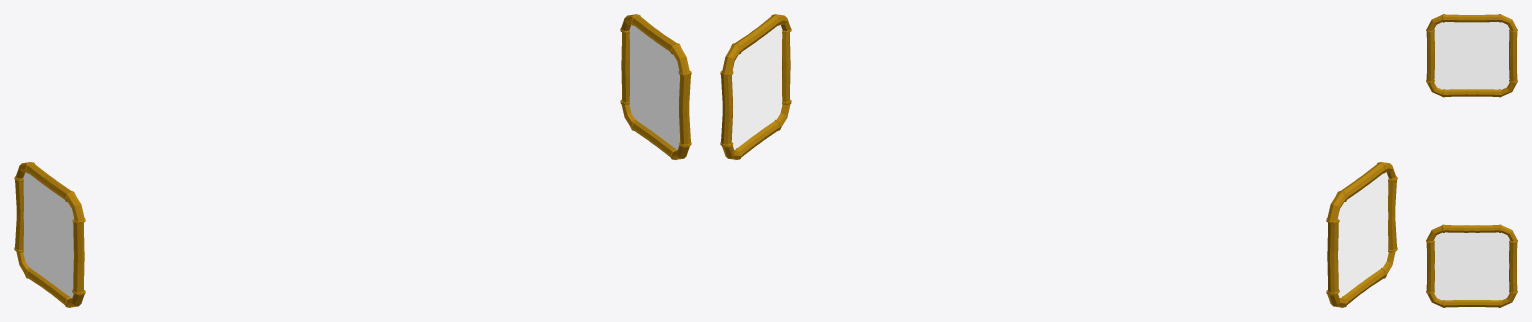
The model's file is obj_frame.gltf.
The picture shows the model from 3 angles, left to right: view 1: azimuth 30°, elevation 25°; view 2: azimuth 150°, elevation 25°; view 3: azimuth 270°, elevation 25°; orthographic projection. The views are drawn at different scales.
Visible parts, largest first — view 1: obj_frame; view 2: obj_frame; view 3: obj_frame.
Boxes of the visible parts, x1,y1,x2,y2 form: obj_frame: (14, 14, 691, 307); obj_frame: (720, 14, 1397, 307); obj_frame: (1426, 14, 1517, 307).
Size of what is drawn, in the model's own units: 14.6 by 2.63 by 2.64.
1 material, 1 textured.
